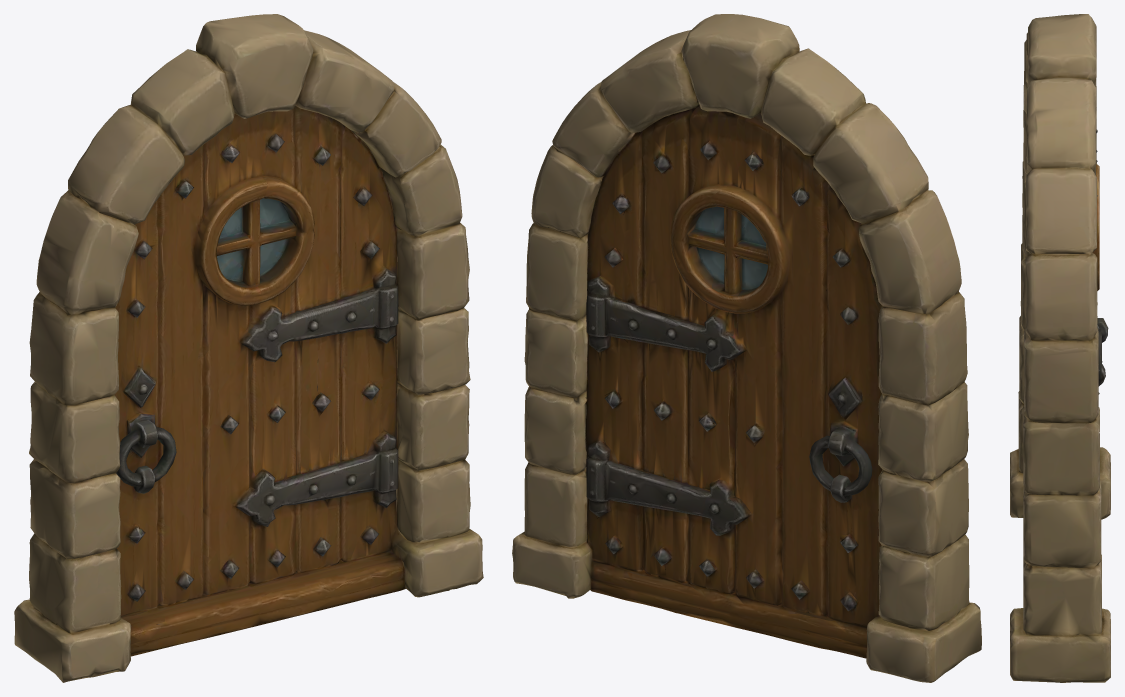
File: mod_door_e.glb
The picture shows the model from 3 angles, left to right: view 1: azimuth 30°, elevation 25°; view 2: azimuth 150°, elevation 25°; view 3: azimuth 270°, elevation 25°; orthographic projection. The views are drawn at different scales.
Parts seen in each view (by area): view 1: tripo_node_0e28f0b4-e35e-40d4-a10b-b2313f16ca9d; view 2: tripo_node_0e28f0b4-e35e-40d4-a10b-b2313f16ca9d; view 3: tripo_node_0e28f0b4-e35e-40d4-a10b-b2313f16ca9d.
Part boxes in pixels (left/top/right/bottom): tripo_node_0e28f0b4-e35e-40d4-a10b-b2313f16ca9d: left=14, top=14, right=483, bottom=682; tripo_node_0e28f0b4-e35e-40d4-a10b-b2313f16ca9d: left=512, top=14, right=981, bottom=682; tripo_node_0e28f0b4-e35e-40d4-a10b-b2313f16ca9d: left=1010, top=14, right=1110, bottom=682.
Bounding box in the file's own units: 0.7293 × 0.9778 × 0.1595.
Materials: 1 (1 with a texture image).
